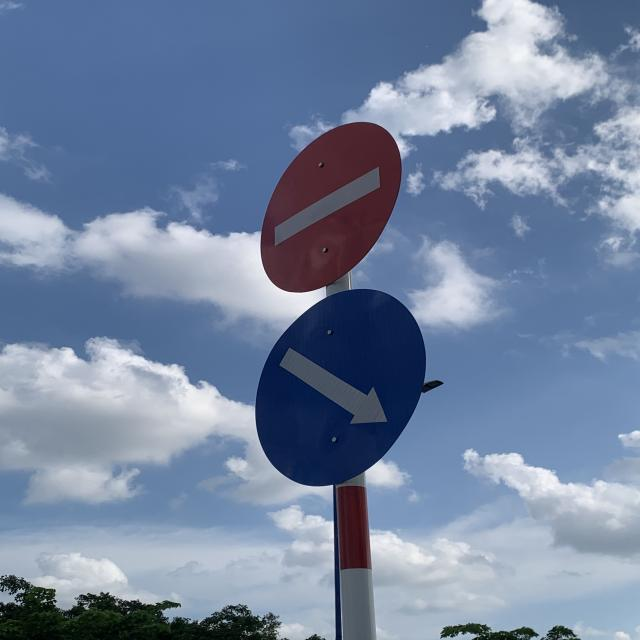Cam_Di_Nguoc_Chieu: (258, 119, 404, 288)
Chi_Huong_Di_Phai: (256, 289, 434, 490)
